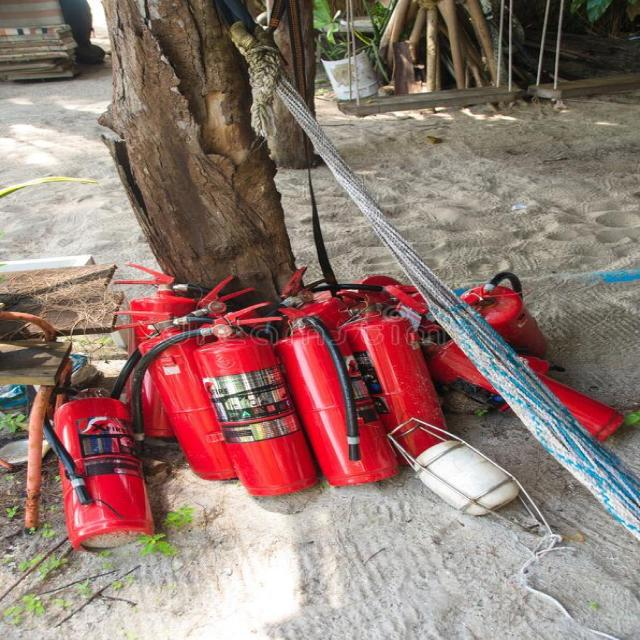fire_extinguisher: (117, 326, 323, 500), (263, 291, 419, 485), (317, 277, 477, 463), (400, 321, 630, 443), (45, 377, 167, 556), (107, 254, 205, 429), (434, 253, 566, 365)
